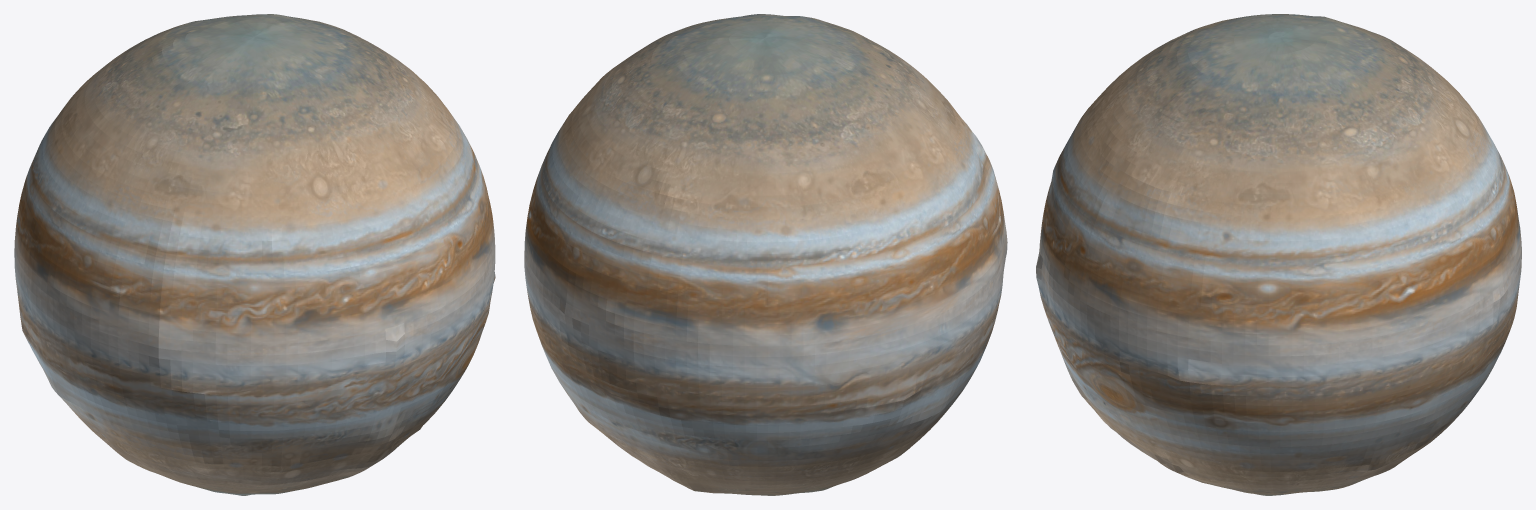
File: planet.glb
3 renders of one model, left to right at view 1: azimuth 30°, elevation 25°; view 2: azimuth 150°, elevation 25°; view 3: azimuth 270°, elevation 25°, orthographic.
Parts seen in each view (by area): view 1: Earth; view 2: Earth; view 3: Earth.
Part boxes in pixels (left/top/right/bottom): Earth: left=14, top=14, right=495, bottom=495; Earth: left=524, top=14, right=1007, bottom=495; Earth: left=1036, top=14, right=1521, bottom=495.
Size of the model in its own units: 2 by 2 by 2.02.
1 material, 1 textured.
